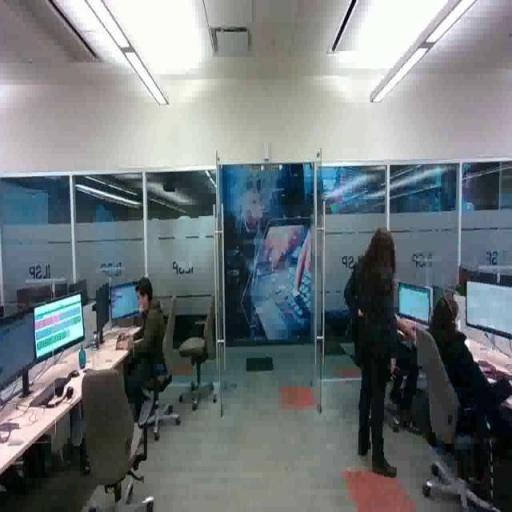person: (424, 297, 512, 466), (348, 234, 406, 479), (119, 276, 173, 438)
